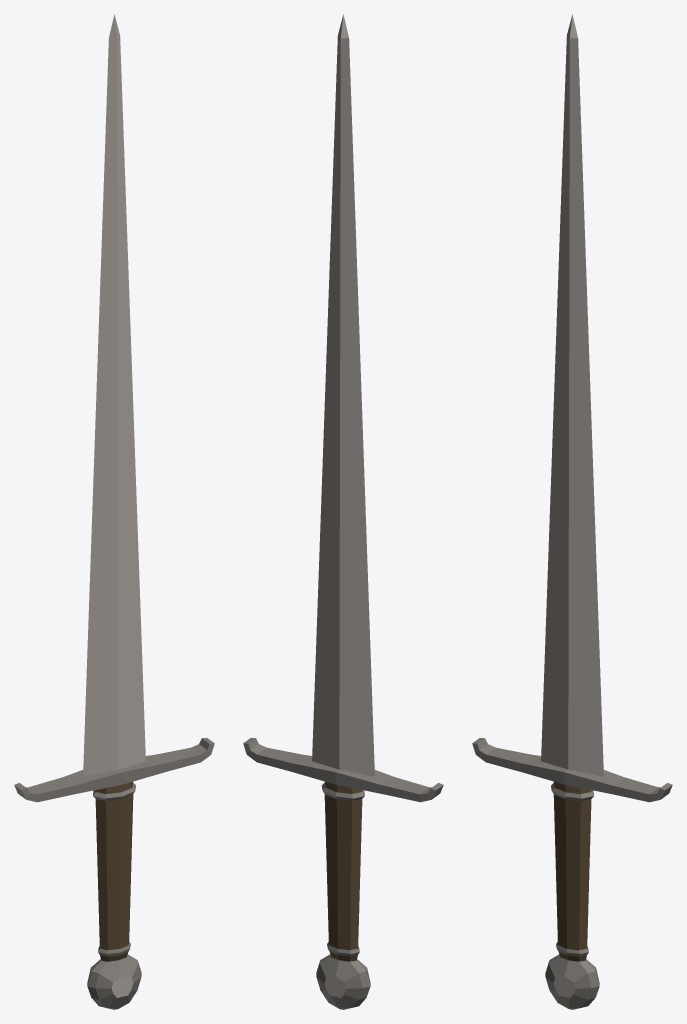
The model's file is SM_pwe_medieval_sword_05.fbx.
The picture shows the model from 3 angles, left to right: view 1: azimuth 30°, elevation 25°; view 2: azimuth 150°, elevation 25°; view 3: azimuth 330°, elevation 25°; orthographic projection.
Parts seen in each view (by area): view 1: SM_pwe_medieval_sword_05; view 2: SM_pwe_medieval_sword_05; view 3: SM_pwe_medieval_sword_05.
Boxes of the visible parts, <box> form: SM_pwe_medieval_sword_05: <box>14,14,214,1009</box>; SM_pwe_medieval_sword_05: <box>243,14,443,1009</box>; SM_pwe_medieval_sword_05: <box>472,14,672,1009</box>.
Bounding box in the file's own units: 20.56 × 101 × 2.97.
